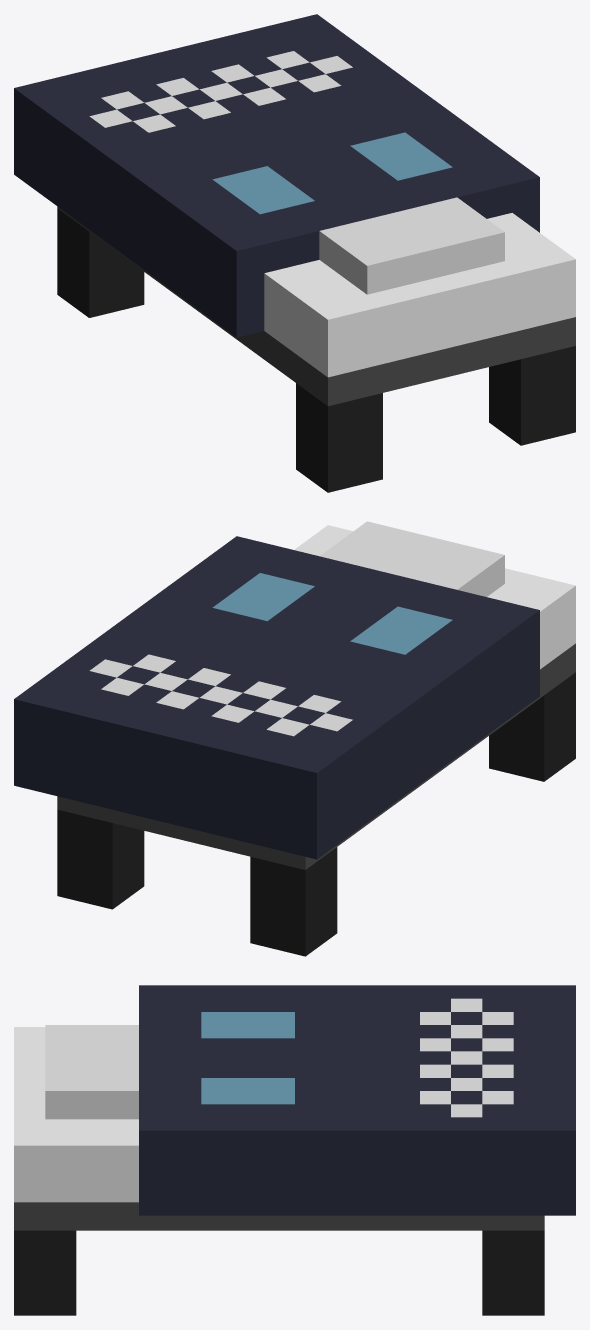
File: KidsRoom-11.obj
The picture shows the model from 3 angles, top to bottom: view 1: azimuth 30°, elevation 25°; view 2: azimuth 150°, elevation 25°; view 3: azimuth 270°, elevation 25°; orthographic projection.
Bounding box in the file's own units: 1.1 × 0.7 × 1.8.
Materials: 1 (1 with a texture image).
